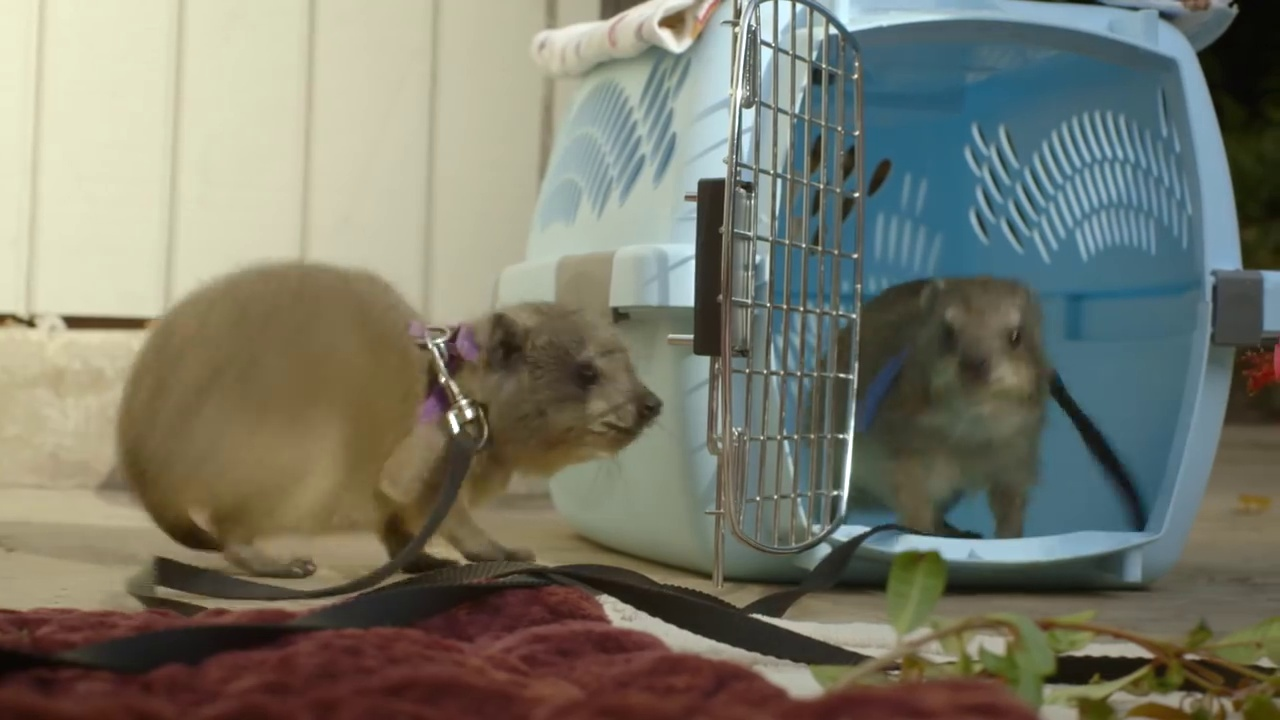Rock Hyrex: (110, 253, 666, 597), (792, 271, 1049, 545)
